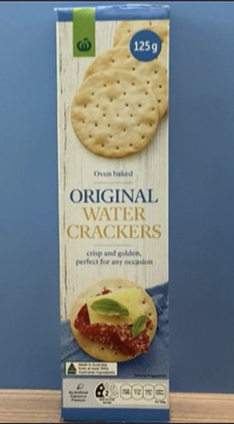crackers_100g-199g: (60, 17, 167, 410)
